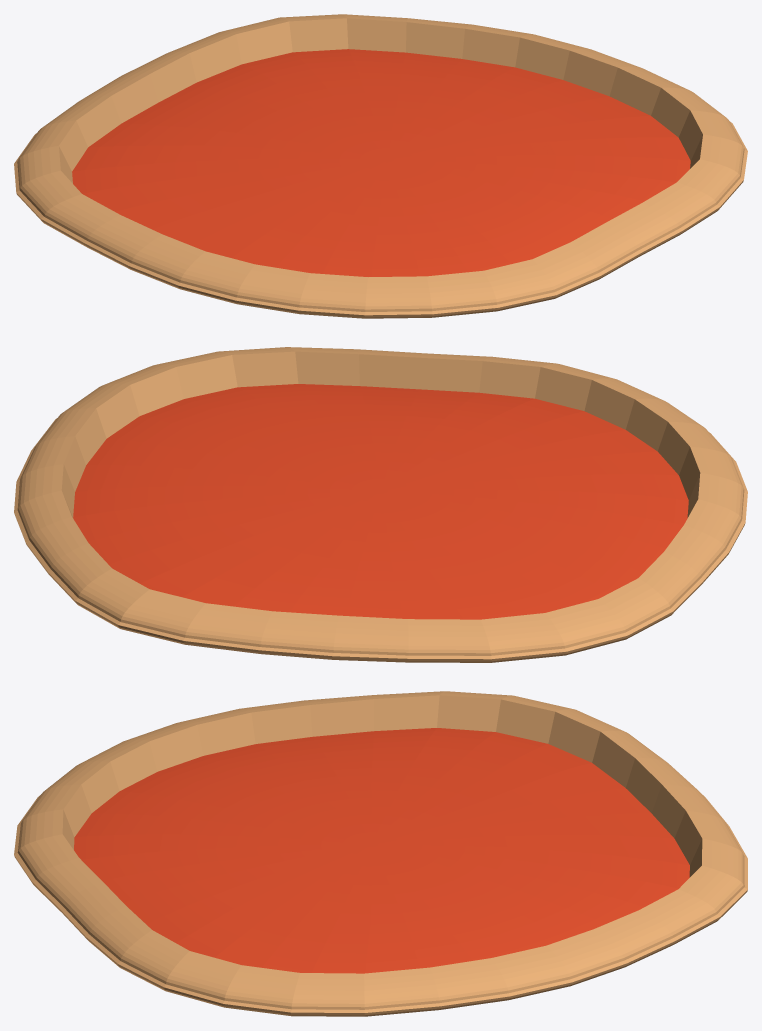
File: uneven-pizza.gltf
The picture shows the model from 3 angles, top to bottom: view 1: azimuth 30°, elevation 25°; view 2: azimuth 150°, elevation 25°; view 3: azimuth 270°, elevation 25°; orthographic projection. The views are drawn at different scales.
Parts seen in each view (by area): view 1: Cylinder; view 2: Cylinder; view 3: Cylinder.
Boxes of the visible parts, box(x1,y1,x2,y2) form: Cylinder: box(14, 14, 747, 318); Cylinder: box(14, 347, 747, 662); Cylinder: box(14, 691, 747, 1016).
Bounding box in the file's own units: 6.45 × 0.5556 × 6.33.
